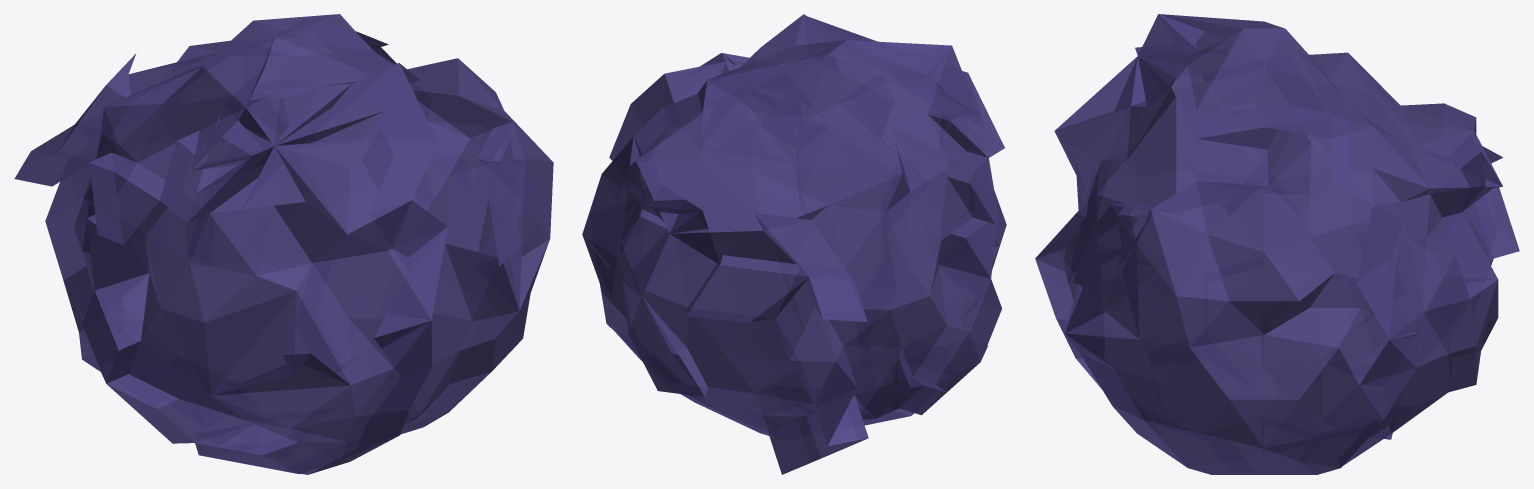
3 views of the same model, side by side, from view 1: azimuth 30°, elevation 25°; view 2: azimuth 150°, elevation 25°; view 3: azimuth 270°, elevation 25° (orthographic). The views are drawn at different scales.
Visible parts, largest first — view 1: Icosphere; view 2: Icosphere; view 3: Icosphere.
Part boxes in pixels (x1,y1,x2,y2): Icosphere: (14, 14, 553, 474); Icosphere: (582, 14, 1006, 474); Icosphere: (1035, 14, 1519, 474).
Bounding box in the file's own units: 2.02 × 2.02 × 2.13.
